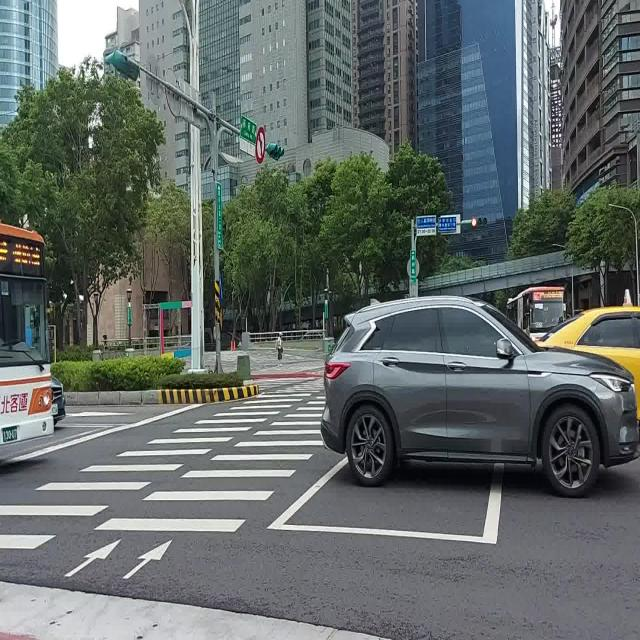bus: (0, 220, 54, 450), (506, 287, 566, 340)
car: (320, 296, 640, 498), (539, 304, 640, 420)
crosswalk: (0, 373, 324, 550), (92, 390, 324, 535)
